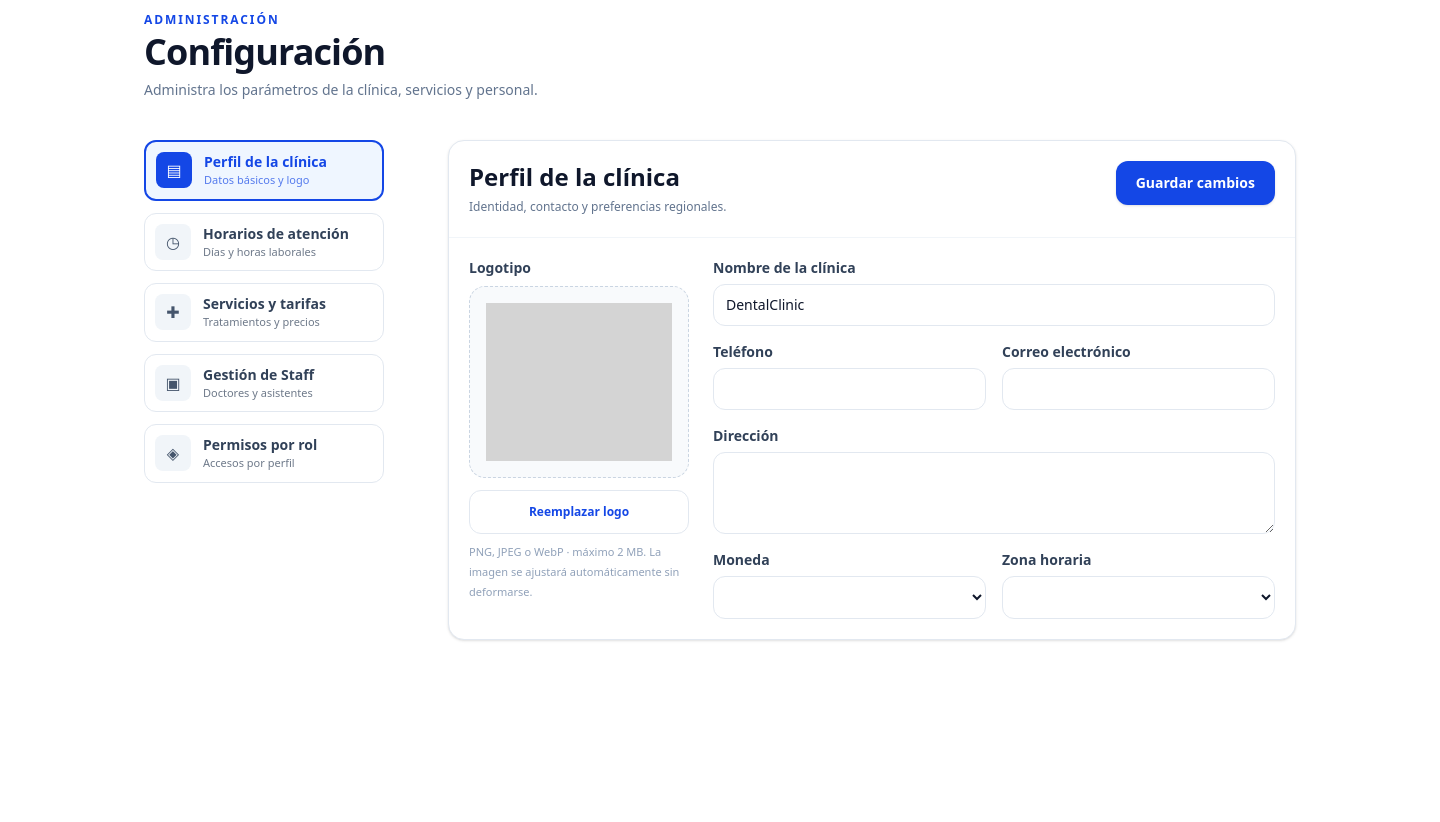
Test: SettingsPage staff management › removes team appointment visibility when base appointment access is disabled
The width and height of the screenshot is (1440, 822).
What coordinates should you click on to do the following:
click the button "◈ Permisos por rol Accesos por perfil"
I would click on:
 (264, 453)
Its box is left=144, top=424, right=384, bottom=482.
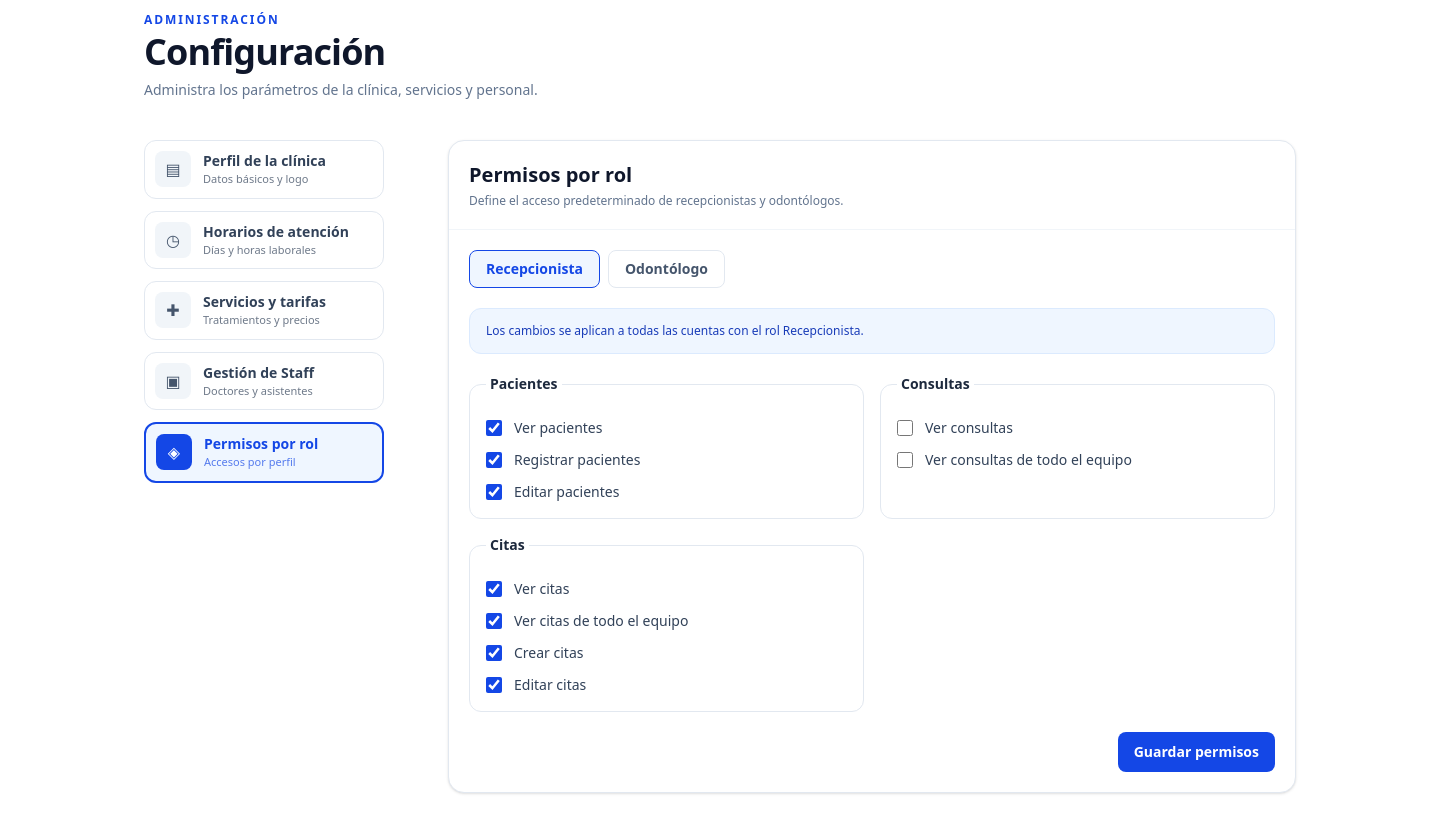
Check: the checkbox labelled "Ver citas de todo el equipo" is checked, box left=486, top=613, right=502, bottom=629
What coordinates should you click on to do the following:
click the checkbox labelled "Ver citas"
I would click on:
 (494, 589)
Its box is left=486, top=581, right=502, bottom=597.
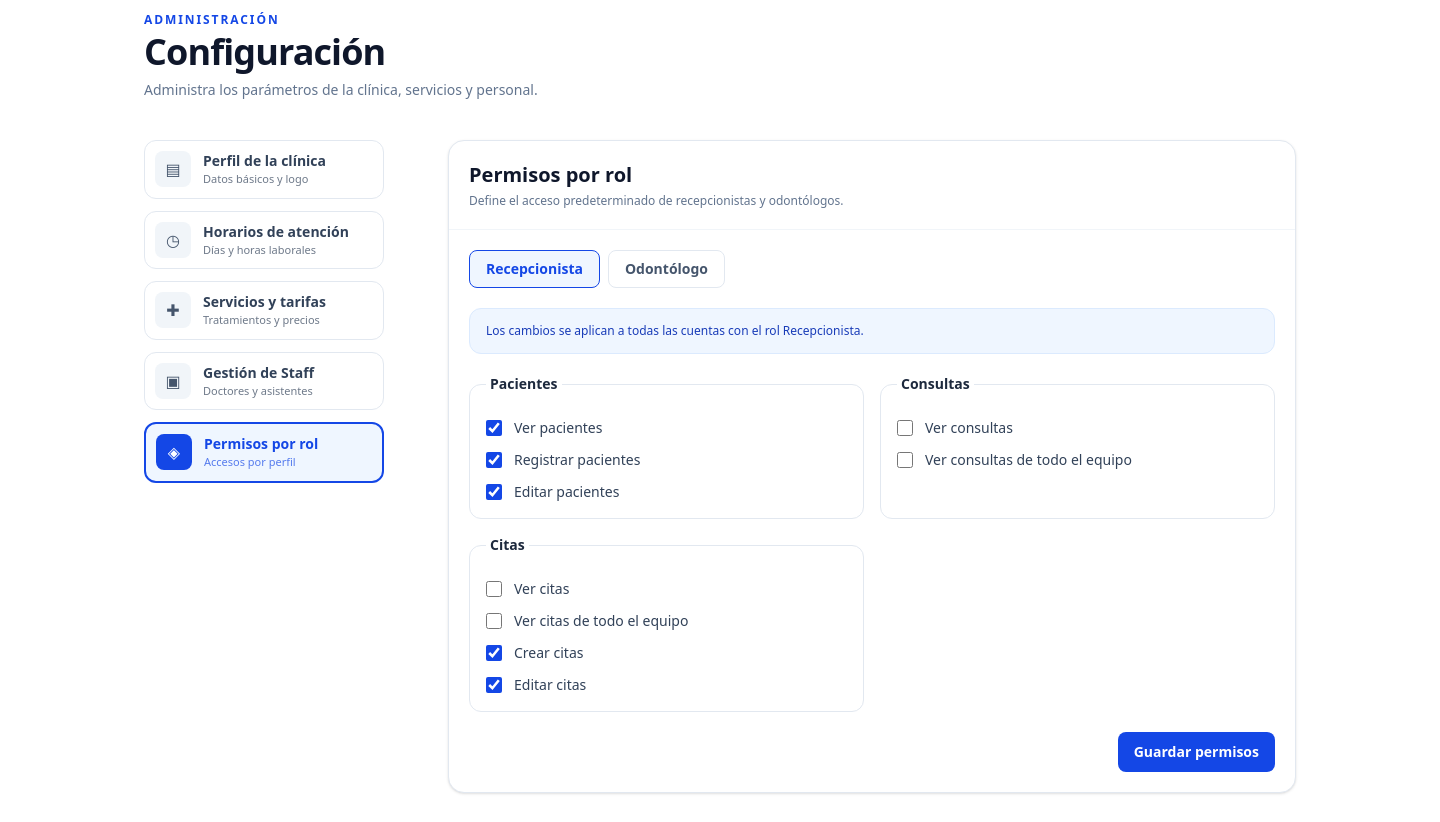
Check: the checkbox labelled "Ver citas" is not checked, box left=486, top=581, right=502, bottom=597
Check: the checkbox labelled "Ver citas de todo el equipo" is not checked, box left=486, top=613, right=502, bottom=629
